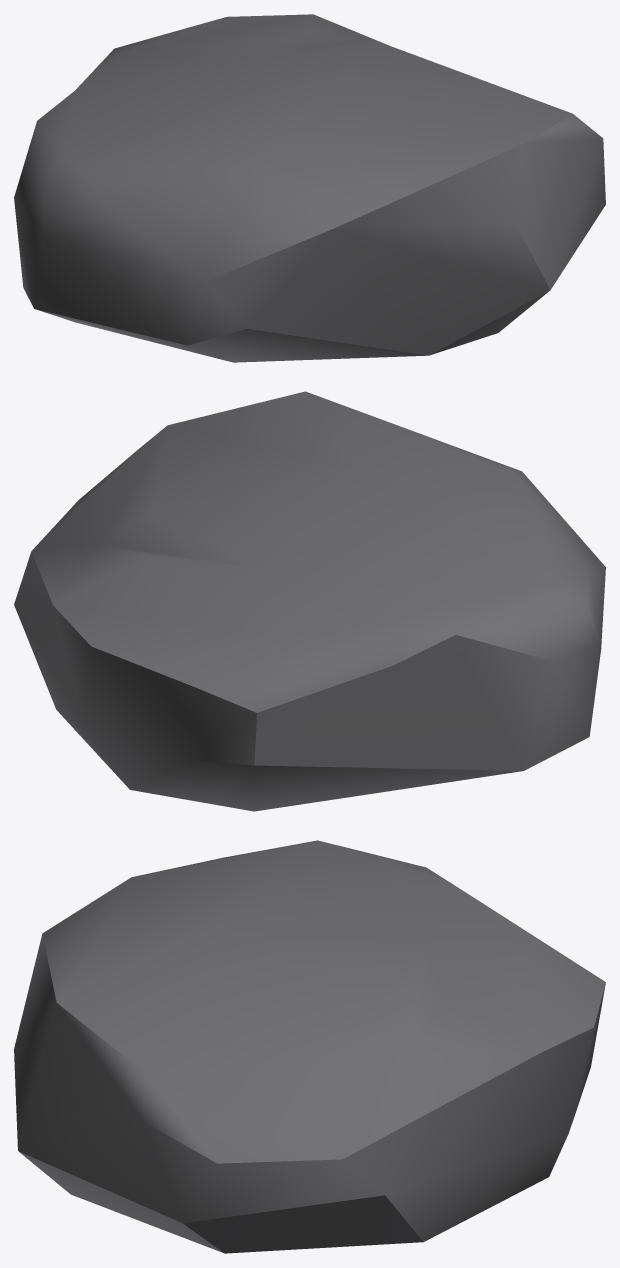
The model's file is Stone_06.fbx.
The picture shows the model from 3 angles, top to bottom: view 1: azimuth 30°, elevation 25°; view 2: azimuth 150°, elevation 25°; view 3: azimuth 270°, elevation 25°; orthographic projection. The views are drawn at different scales.
Parts seen in each view (by area): view 1: Stone_06; view 2: Stone_06; view 3: Stone_06.
Boxes of the visible parts, x1=… form: Stone_06: x1=14, y1=14, x2=605, y2=362; Stone_06: x1=14, y1=391, x2=605, y2=811; Stone_06: x1=14, y1=840, x2=605, y2=1253.
Bounding box in the file's own units: 159 × 61.6 × 146.
